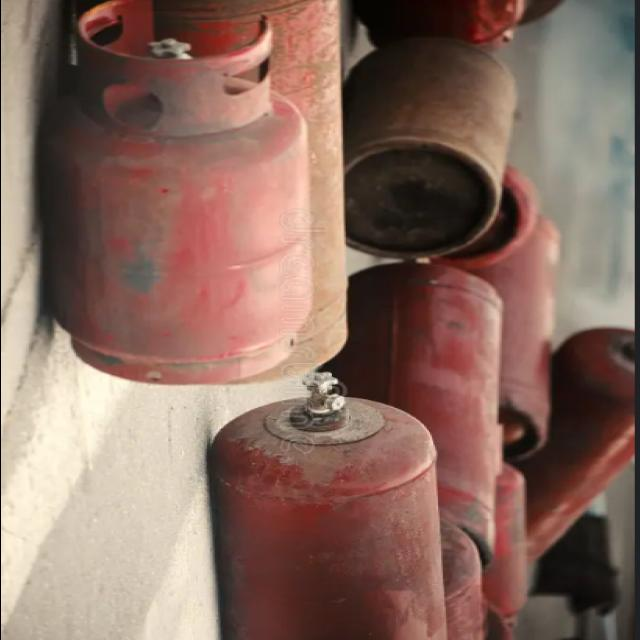cylinder: (44, 1, 310, 384), (206, 373, 448, 638)
